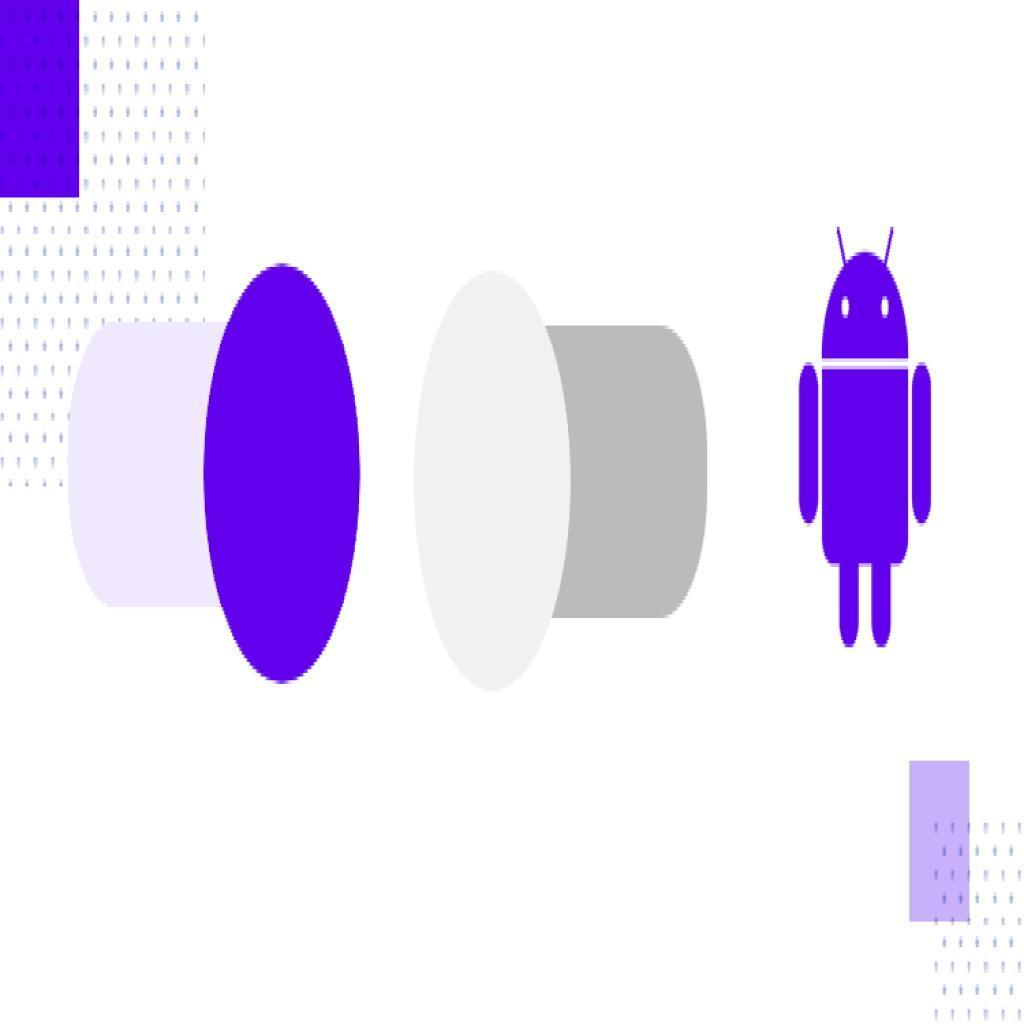switch: (66, 264, 362, 685), (417, 273, 709, 694)
